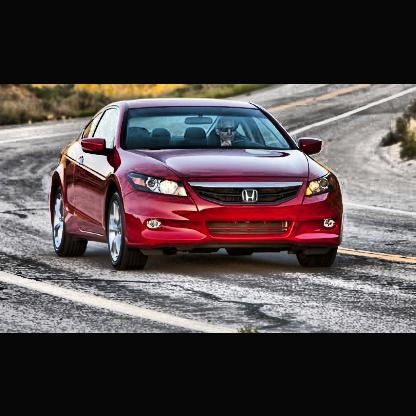Honda Accord Coupe 2012: (52, 98, 344, 271)
